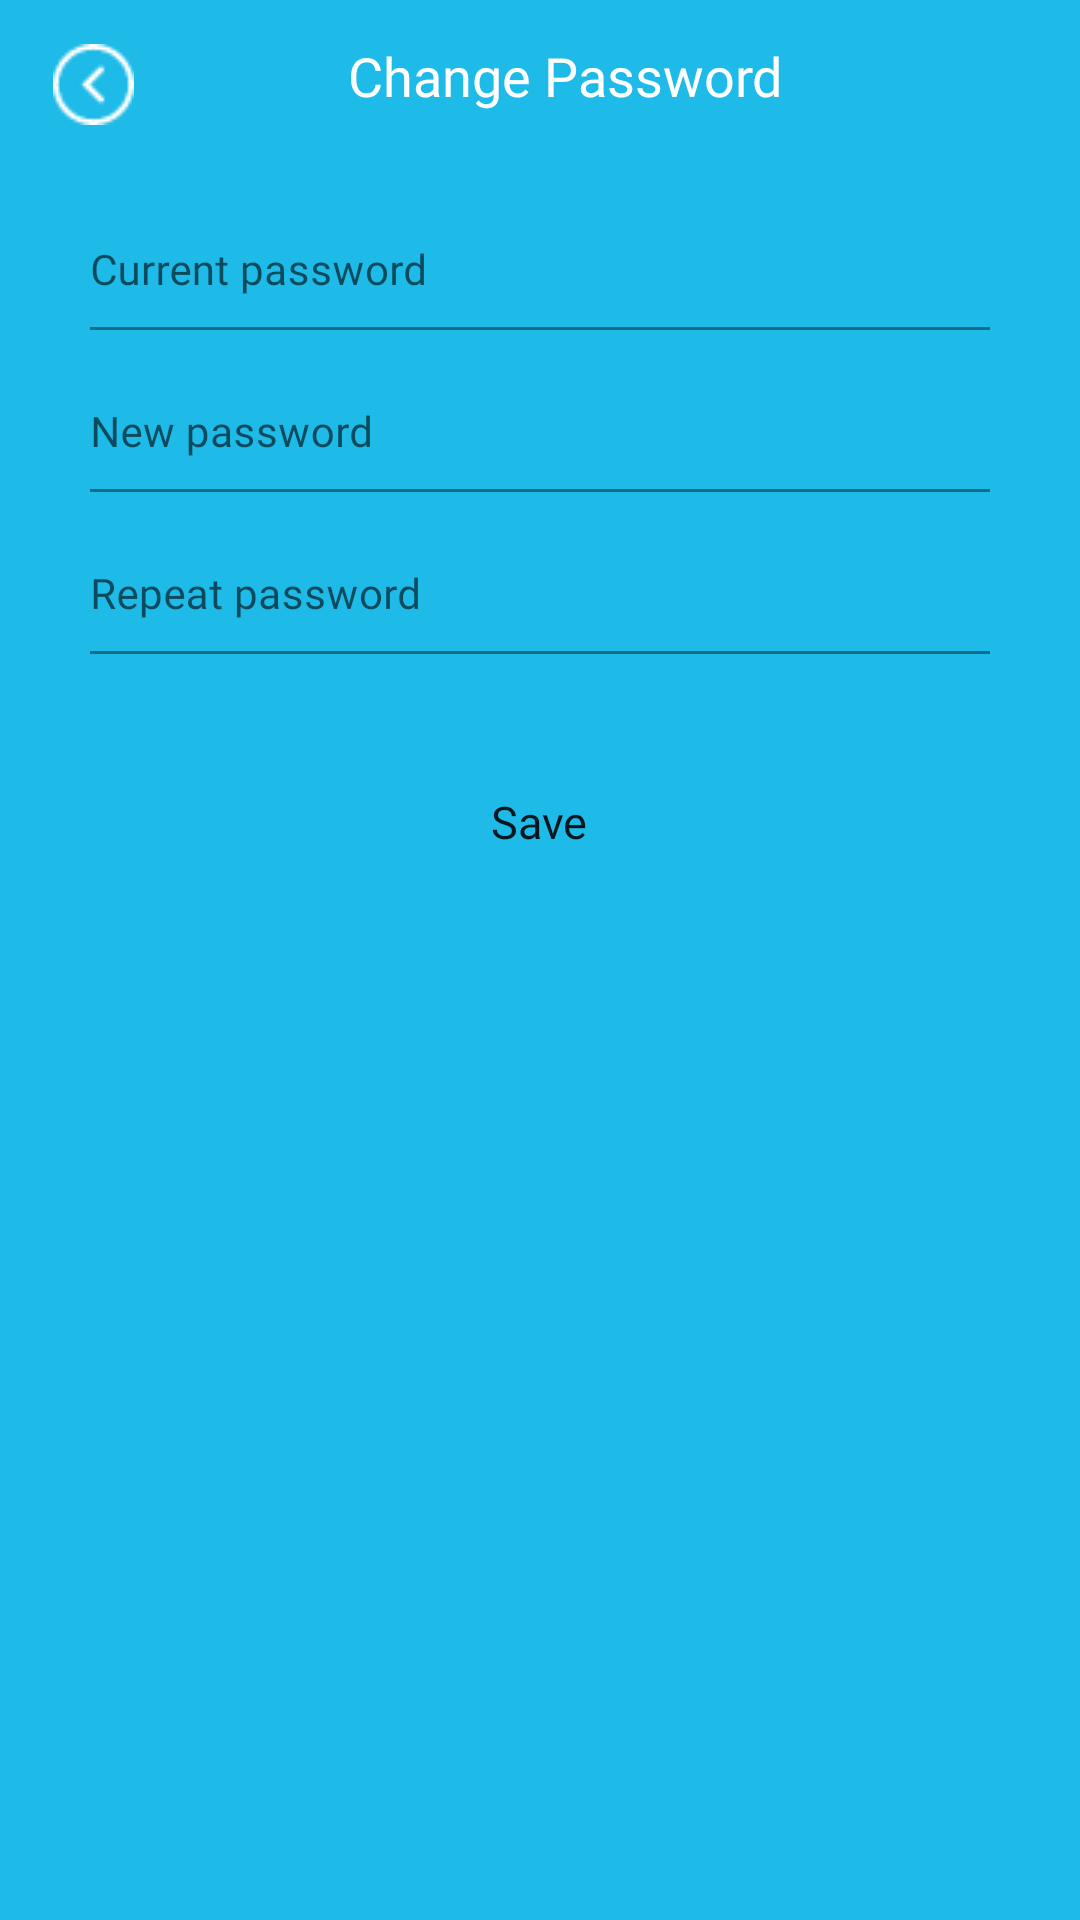

Point at icon controls on the screen. Image size 1080 x 1920, points as (x,y).
back: (93,84)
